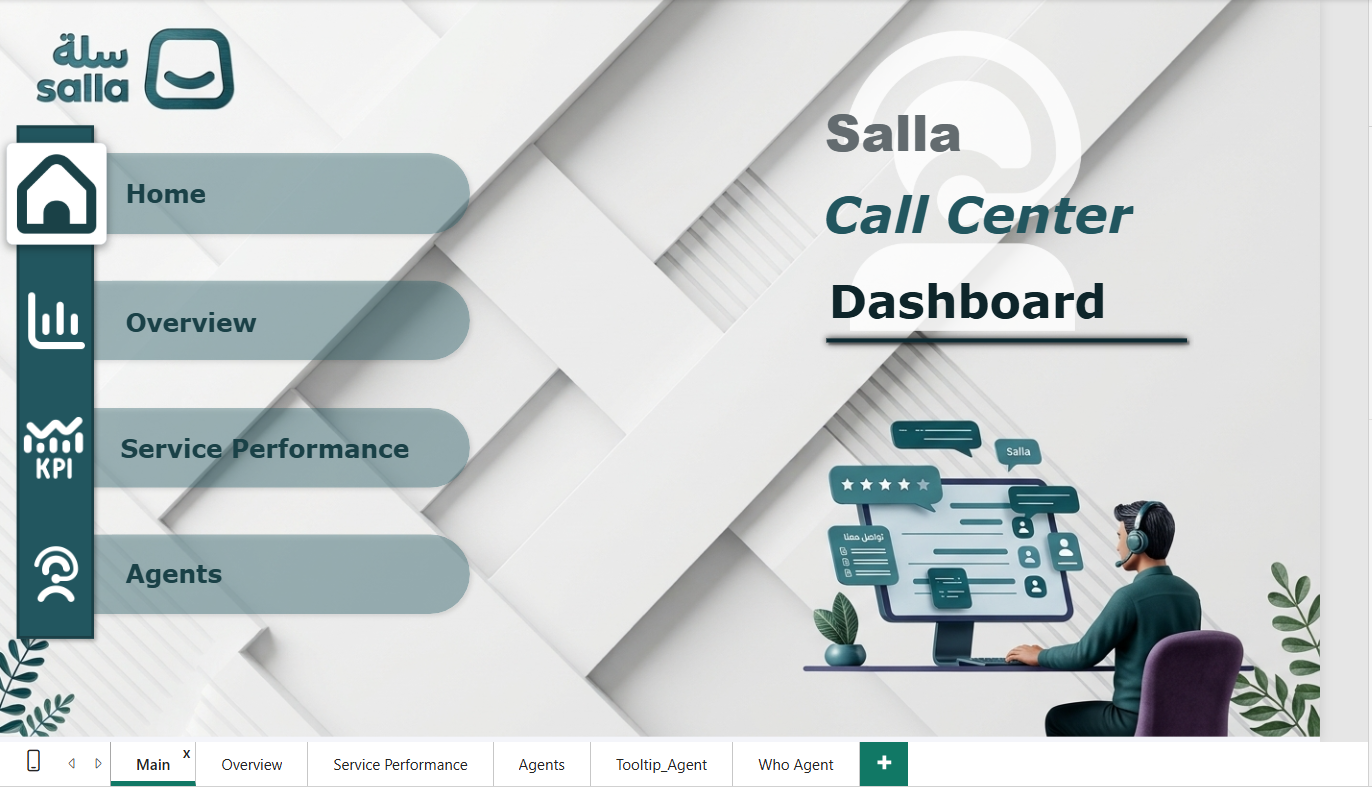

This screenshot's page, from the dashboard's own definition file:
{"tool":"powerbi","page":{"name":"Main","canvas":[1920,1080],"ordinal":0},"visuals":[{"type":"image","box":[1088.9,30.4,620.3,466.3],"z":0},{"type":"shape","box":[0,567.7,709.6,167],"z":1000},{"type":"shape","box":[0,384,709.6,167],"z":2000},{"type":"shape","box":[0,198.3,709.6,169],"z":3000},{"type":"shape","box":[0,751.3,709.6,167],"z":4000},{"type":"shape","box":[0,158.3,163.4,796.6],"z":5000},{"type":"shape","box":[10.2,209.4,145.5,148.1],"z":6000},{"type":"image","box":[10.9,208.8,145.3,148.9],"z":7000},{"type":"image","box":[28.1,408.5,112.3,117.4],"z":8000},{"type":"image","box":[15.3,592.3,132.8,120],"z":9000},{"type":"image","box":[26.8,778,111.1,113.2],"z":10000},{"type":"actionButton","box":[162.8,227.5,434.1,112.7],"z":11000},{"type":"actionButton","box":[162.8,413.2,486.3,112.7],"z":12000},{"type":"actionButton","box":[156.5,596.9,530.1,112.7],"z":13000},{"type":"actionButton","box":[162.8,778.4,434.1,112.7],"z":14000},{"type":"actionButton","box":[1177.8,125.8,344.9,123.6],"z":15000},{"type":"actionButton","box":[1177,250,532.2,123.1],"z":16000},{"type":"actionButton","box":[1177,373.1,532.2,123.1],"z":17000},{"type":"shape","box":[1177,439.9,573.9,112.7],"z":18000}]}

Visuals, with their boxes on the page's 1920x1080 design canvas (x1, y1, x2, y2). These are canvas units, not pixel positions in the 1372x787 screenshot, which may show the page scaled, cropped or inside an application window:
image: (1089, 30, 1709, 497)
shape: (0, 568, 710, 735)
shape: (0, 384, 710, 551)
shape: (0, 198, 710, 367)
shape: (0, 751, 710, 918)
shape: (0, 158, 163, 955)
shape: (10, 209, 156, 358)
image: (11, 209, 156, 358)
image: (28, 408, 140, 526)
image: (15, 592, 148, 712)
image: (27, 778, 138, 891)
actionButton: (163, 228, 597, 340)
actionButton: (163, 413, 649, 526)
actionButton: (156, 597, 687, 710)
actionButton: (163, 778, 597, 891)
actionButton: (1178, 126, 1523, 249)
actionButton: (1177, 250, 1709, 373)
actionButton: (1177, 373, 1709, 496)
shape: (1177, 440, 1751, 553)
